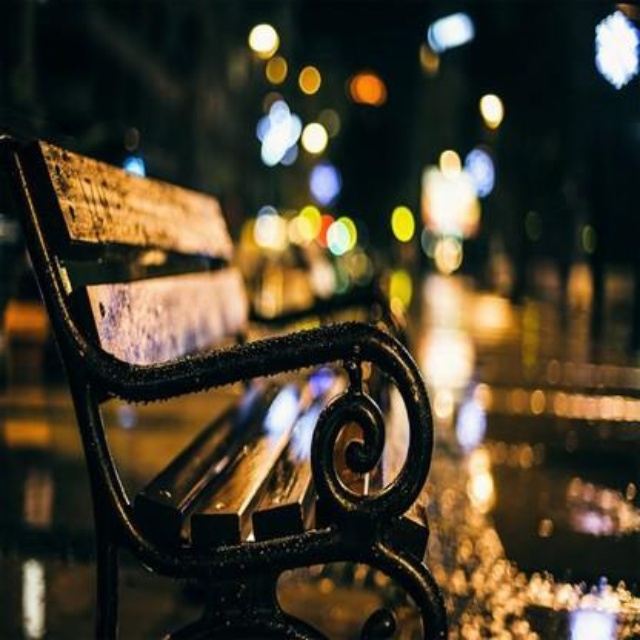obstacle: (3, 125, 465, 631)
